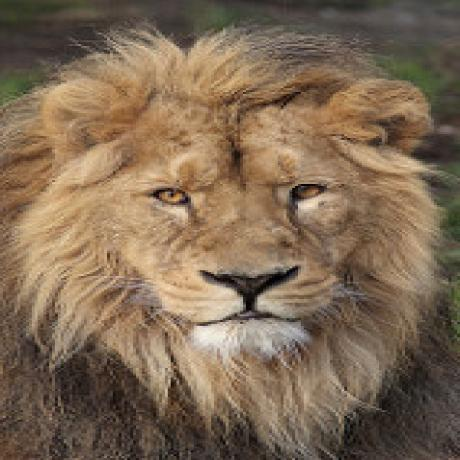Lion: (0, 24, 460, 460)
